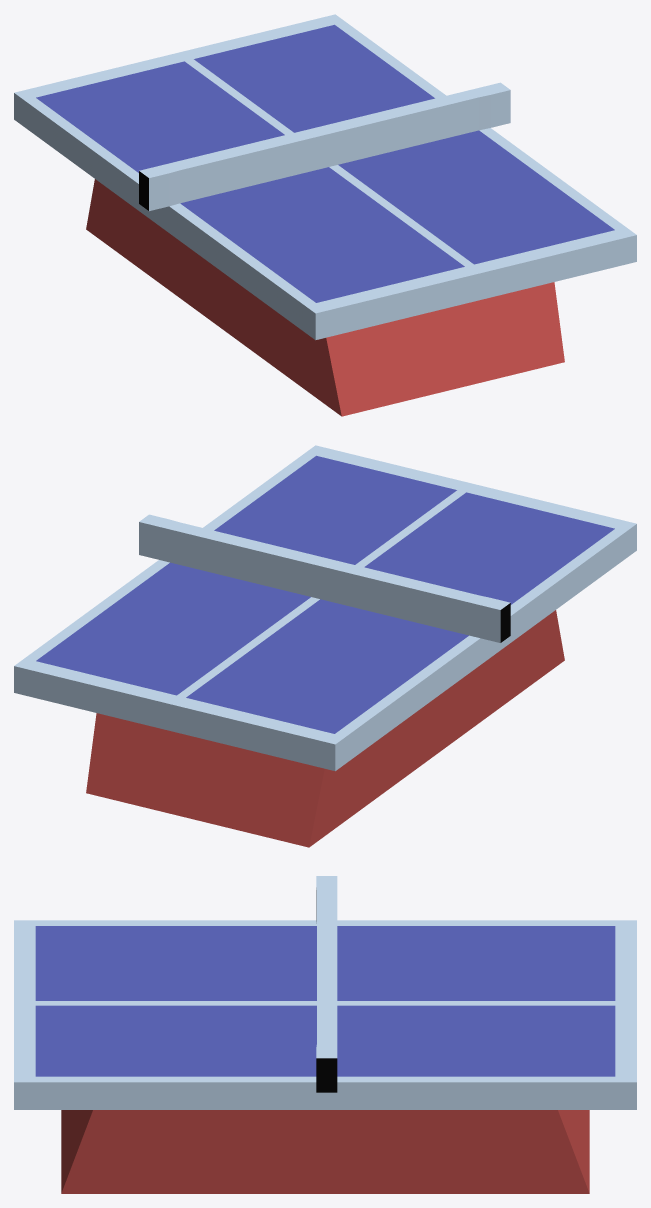
File: table-template.glb
3 renders of one model, top to bottom at view 1: azimuth 30°, elevation 25°; view 2: azimuth 150°, elevation 25°; view 3: azimuth 270°, elevation 25°, orthographic. The views are drawn at different scales.
Parts seen in each view (by area): view 1: Cube; view 2: Cube; view 3: Cube.
Part boxes in pixels (bbox=[...]): Cube: bbox=[14, 14, 636, 416]; Cube: bbox=[14, 445, 636, 847]; Cube: bbox=[14, 876, 636, 1193].
Bounding box in the file's own units: 1.8 × 0.7847 × 2.6.
Materials: 1 (1 with a texture image).
